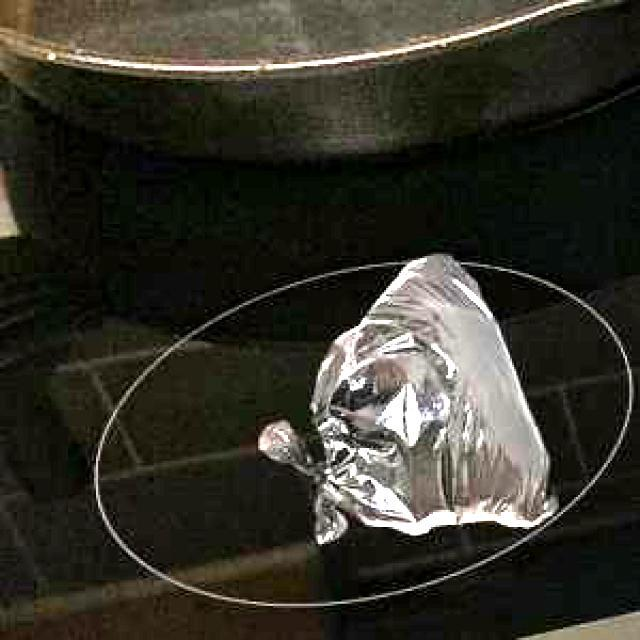Garbage_Bag: (257, 251, 554, 538)
